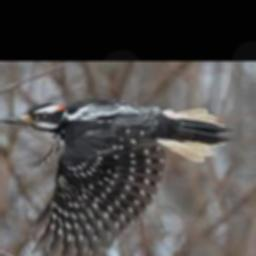Woodpecker: (0, 97, 233, 256)
